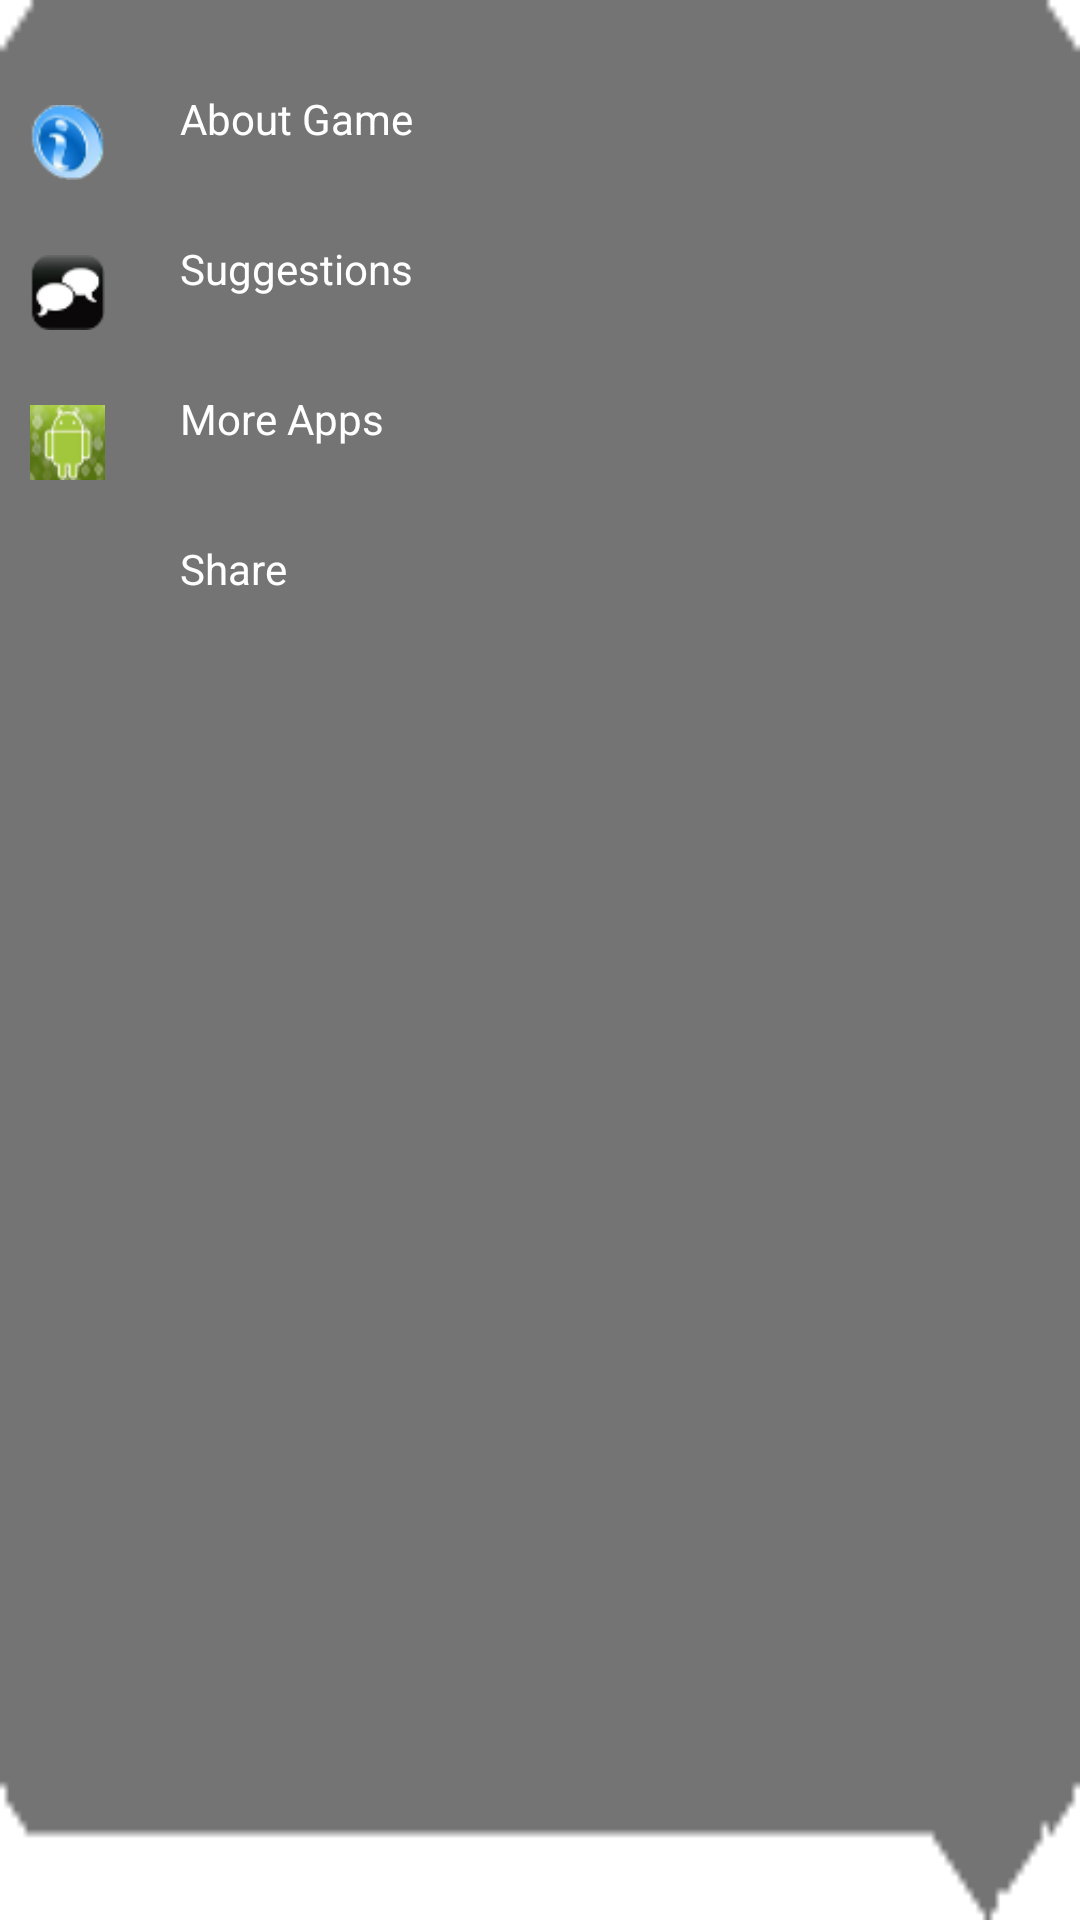

Icon bounding boxes for this 1080 x 1920 phone screenshot, format BBox(x1, y1, x2, y2):
feedback: BBox(32, 257, 104, 330)
